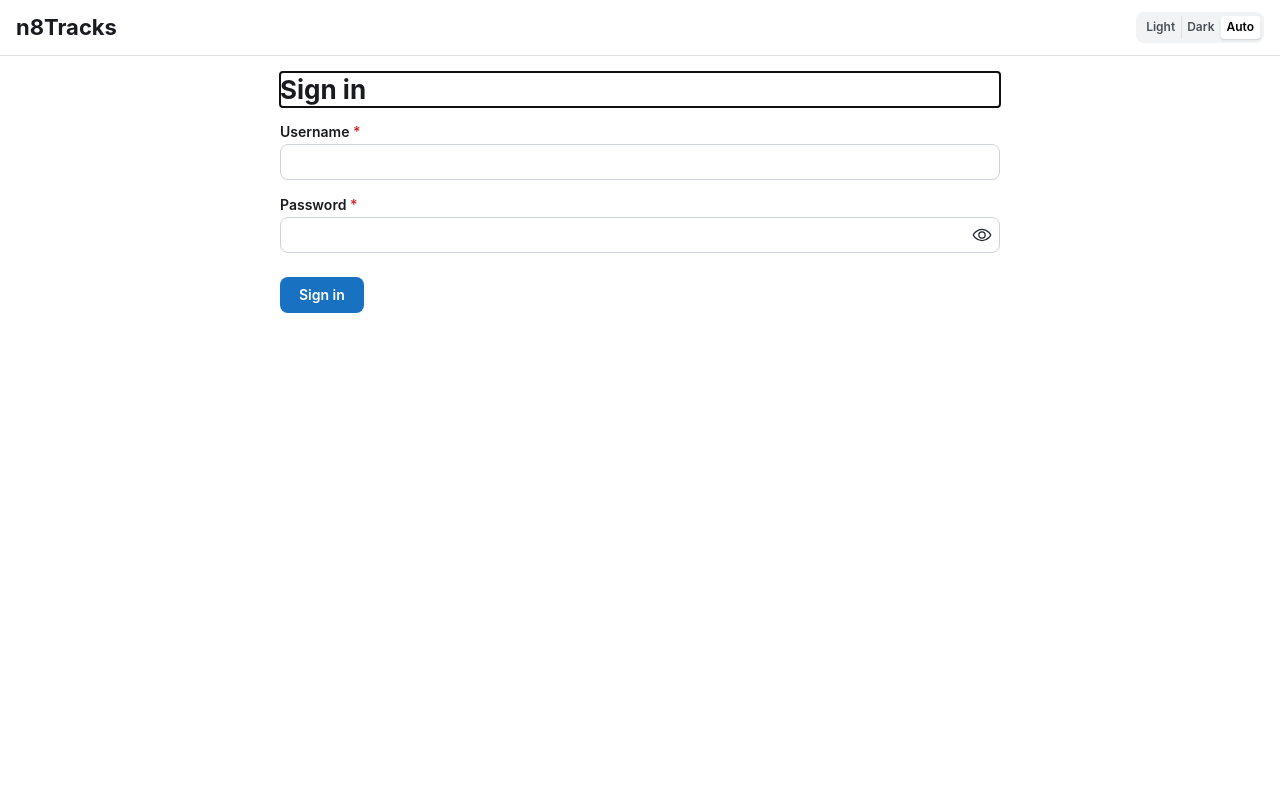
without a session › signs in with the anti-forgery header and goes on to where the user was going
The width and height of the screenshot is (1280, 800).
Type "  Owner " into the field labelled "Username *" at (640, 162), box [280,144,1000,180]
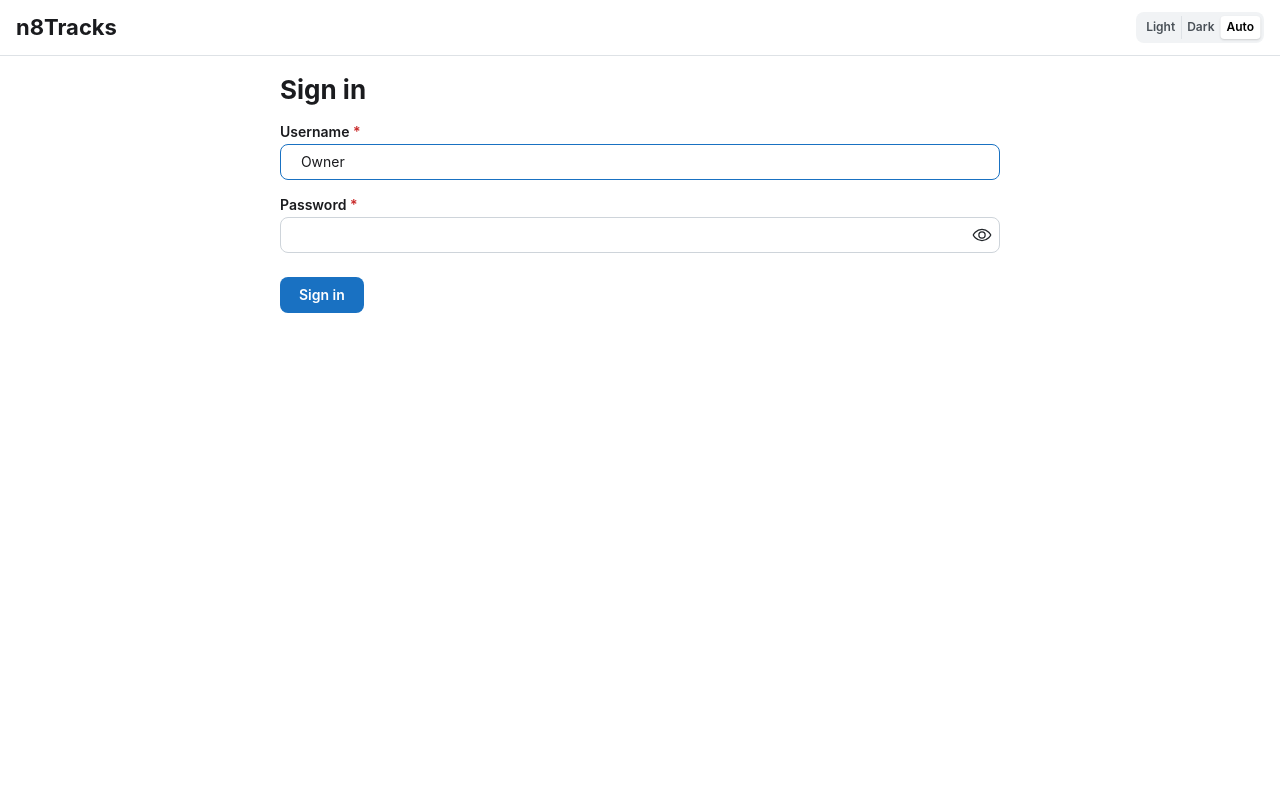
Type "correct horse battery" into the password field labelled "Password *" at (640, 235), box [281,218,999,252]
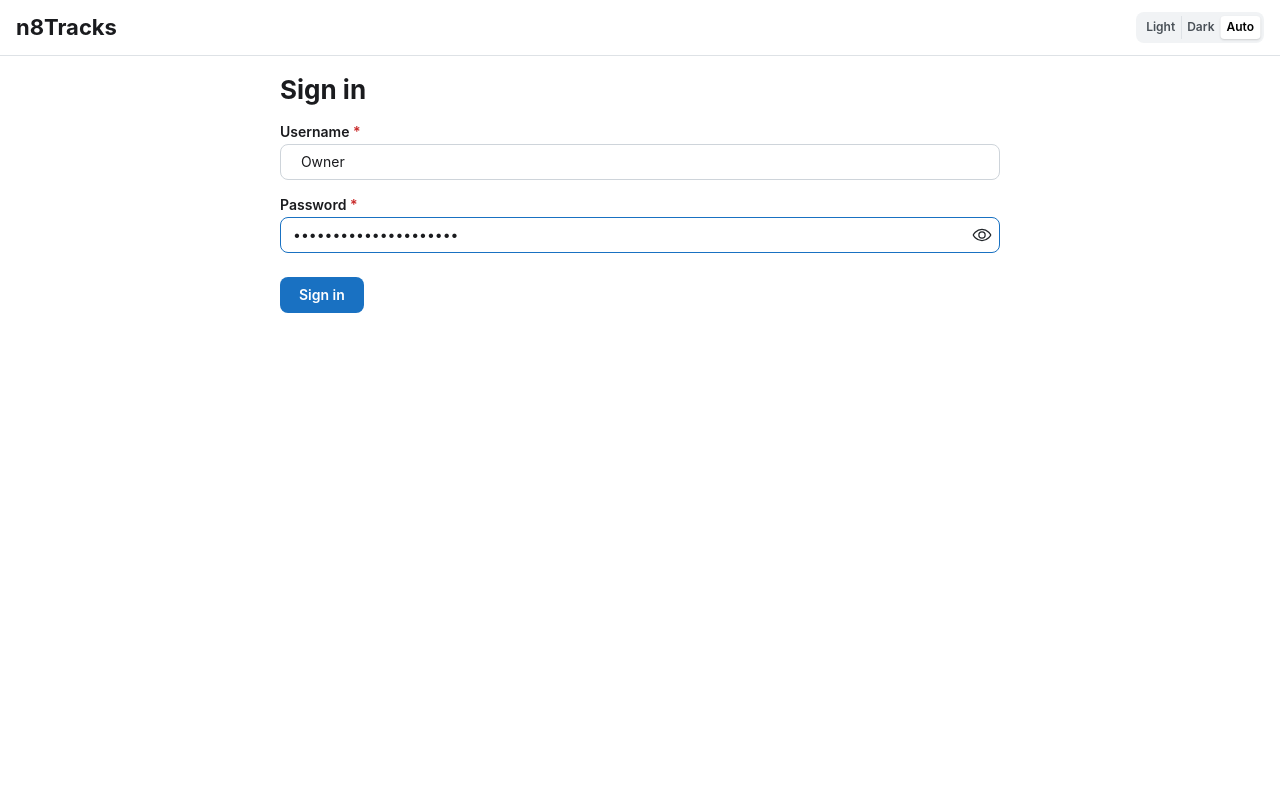
Click the button "Sign in" at (322, 295), box [280,277,364,313]
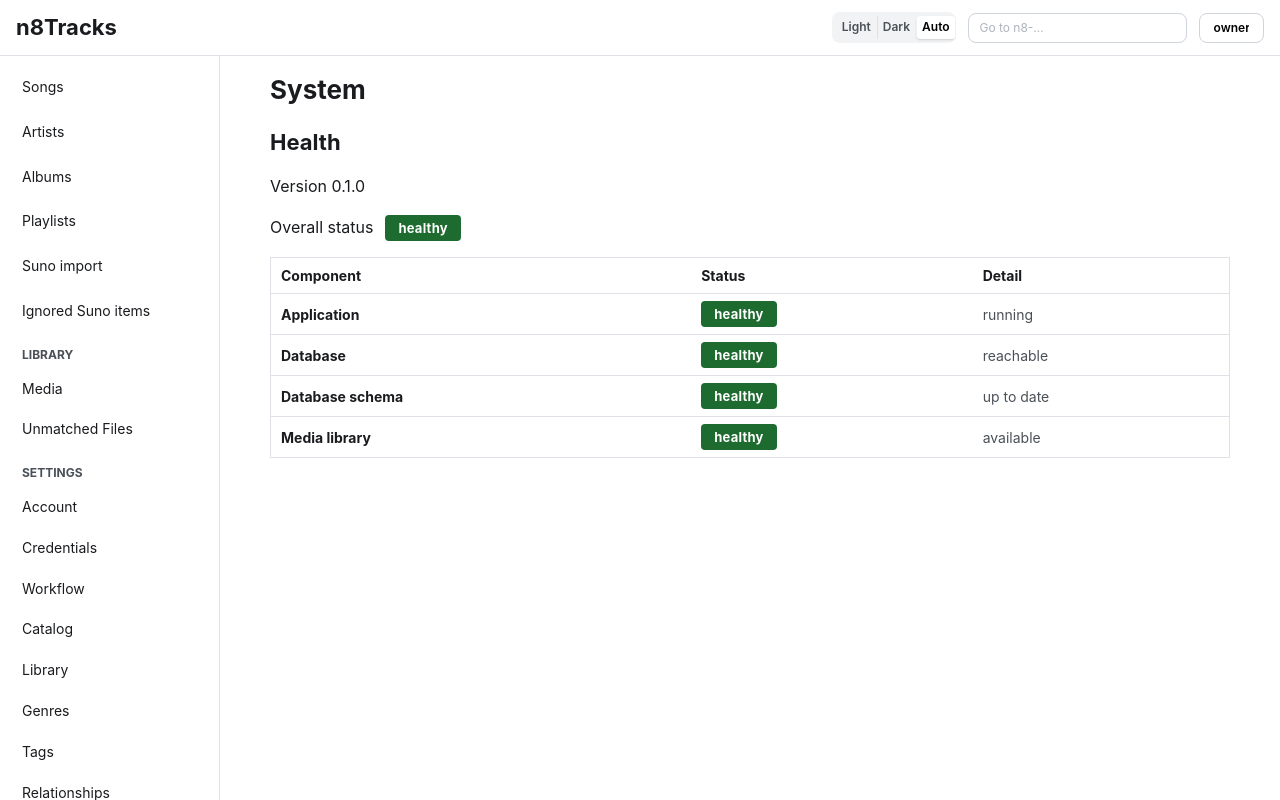
Check: the heading "System" is shown, box [270,74,366,105]
Check: the navigation bar named "Main" is shown, box [0,56,220,799]
Check: the button with test id "user-menu" reads "owner", box [1198,12,1264,42]
